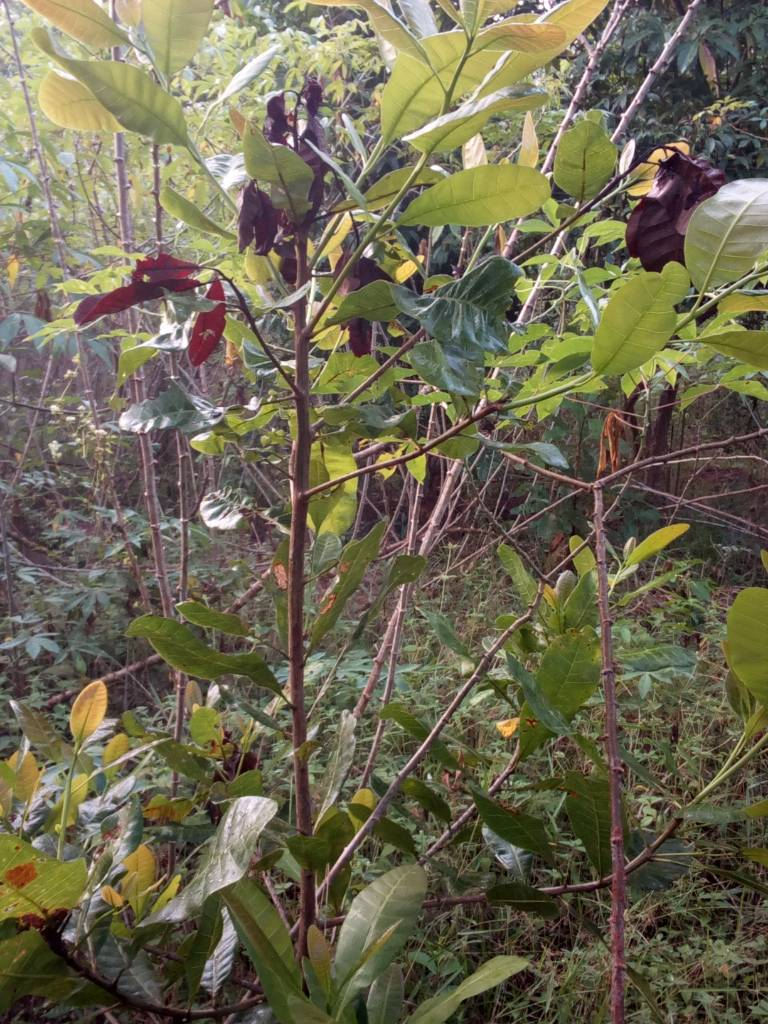Dessèchement des bourgeons: (206, 94, 355, 243), (629, 147, 716, 255)
